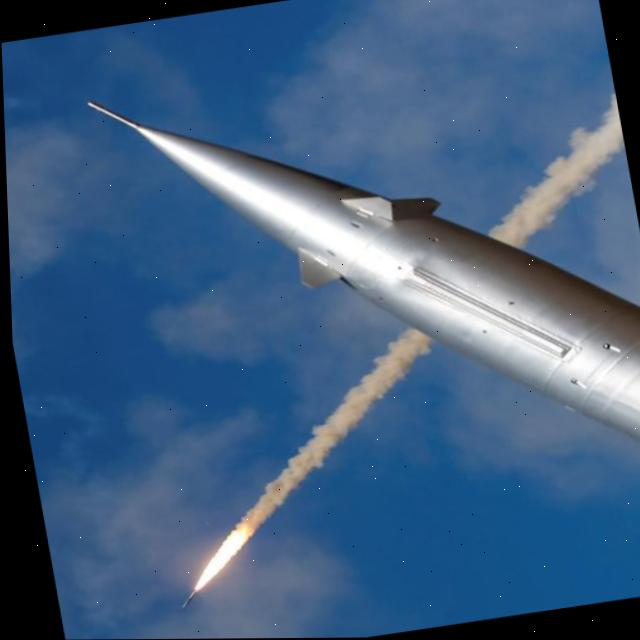missile: (90, 30, 640, 537), (170, 588, 196, 610)
